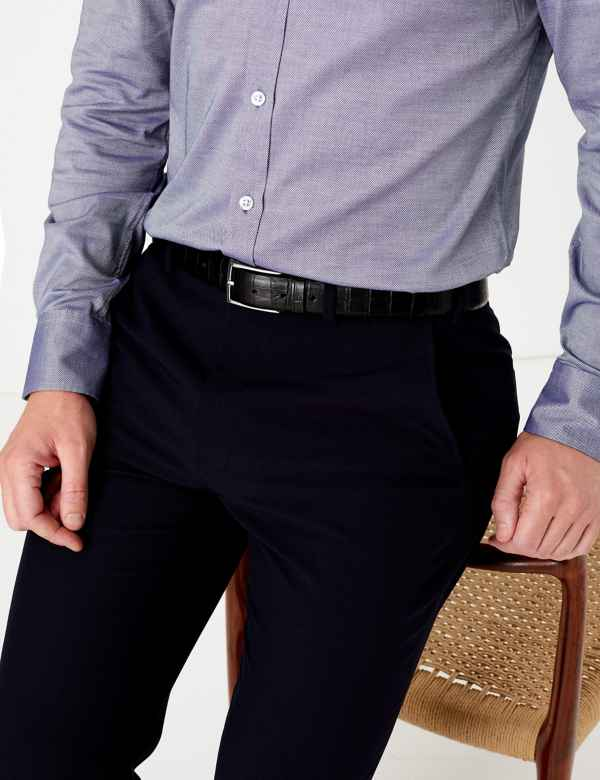F_belt: (131, 238, 493, 338)
F_dress pants: (9, 254, 528, 777)
F_shirt: (13, 2, 600, 396)
